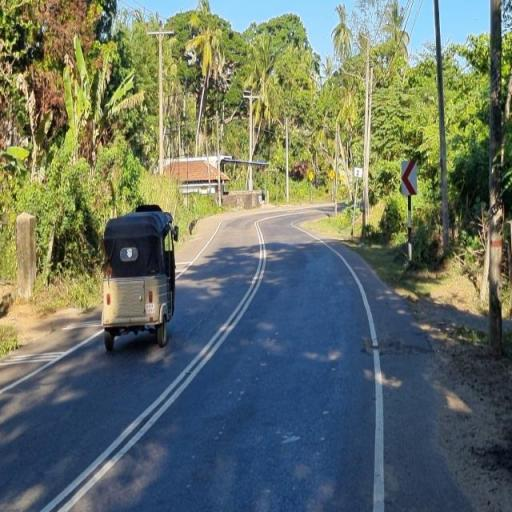double_white_line: (38, 218, 270, 511)
